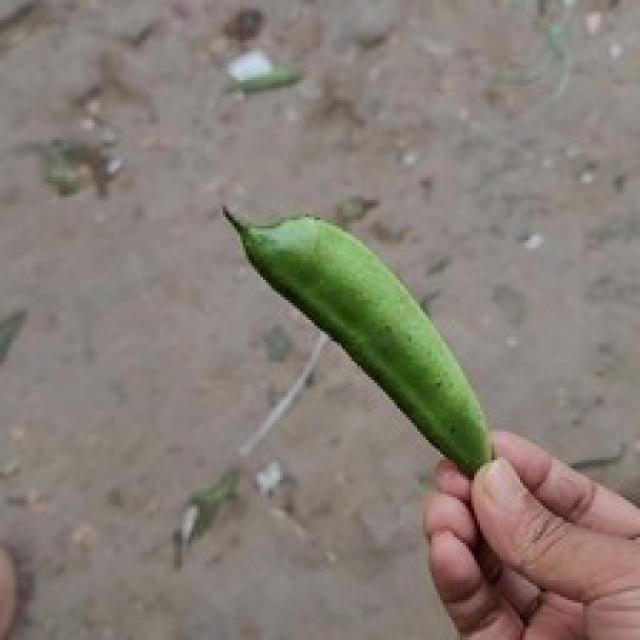Bean: (220, 203, 494, 480)
